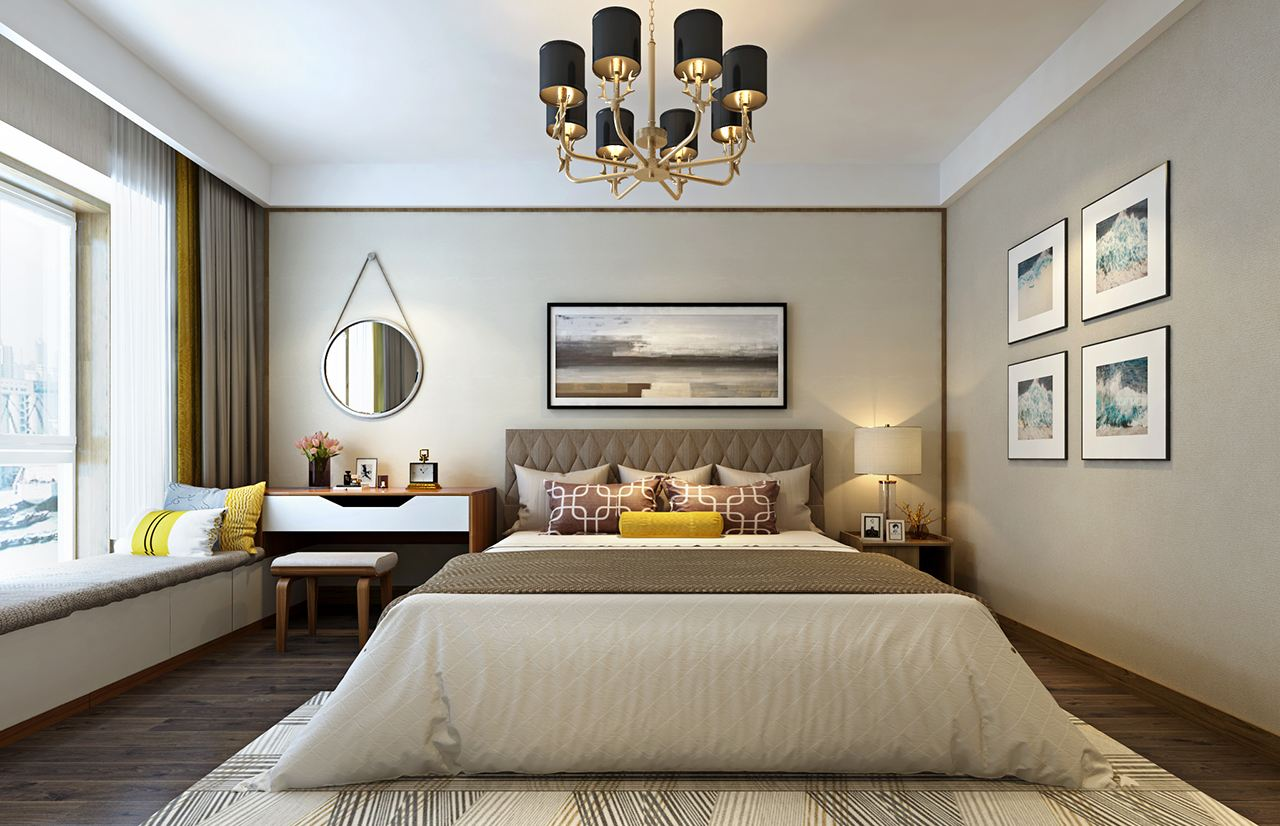床: (295, 529, 1096, 799)
枕头: (516, 461, 805, 546), (116, 492, 265, 558)
灯: (520, 7, 769, 204), (845, 406, 917, 551)
